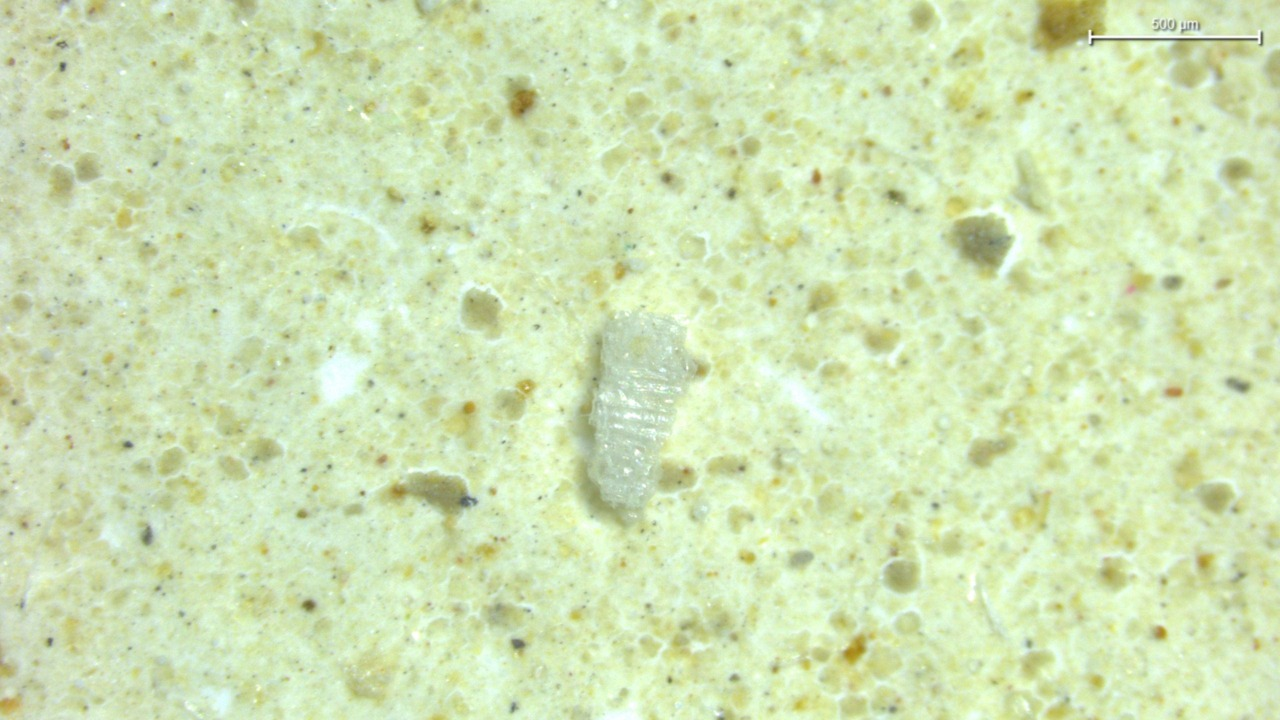microplastic_fragment: (589, 313, 695, 510)
